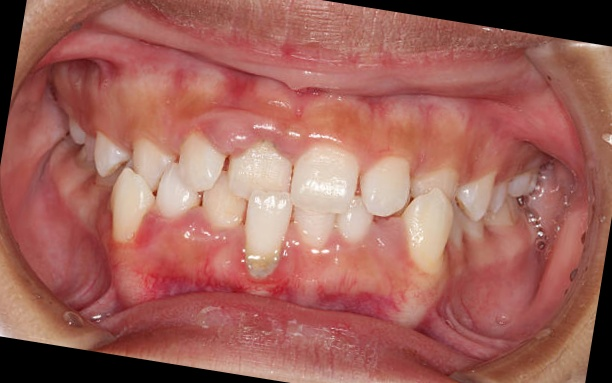Gingivitis: (142, 252, 291, 318), (301, 269, 407, 322), (214, 68, 267, 107)
